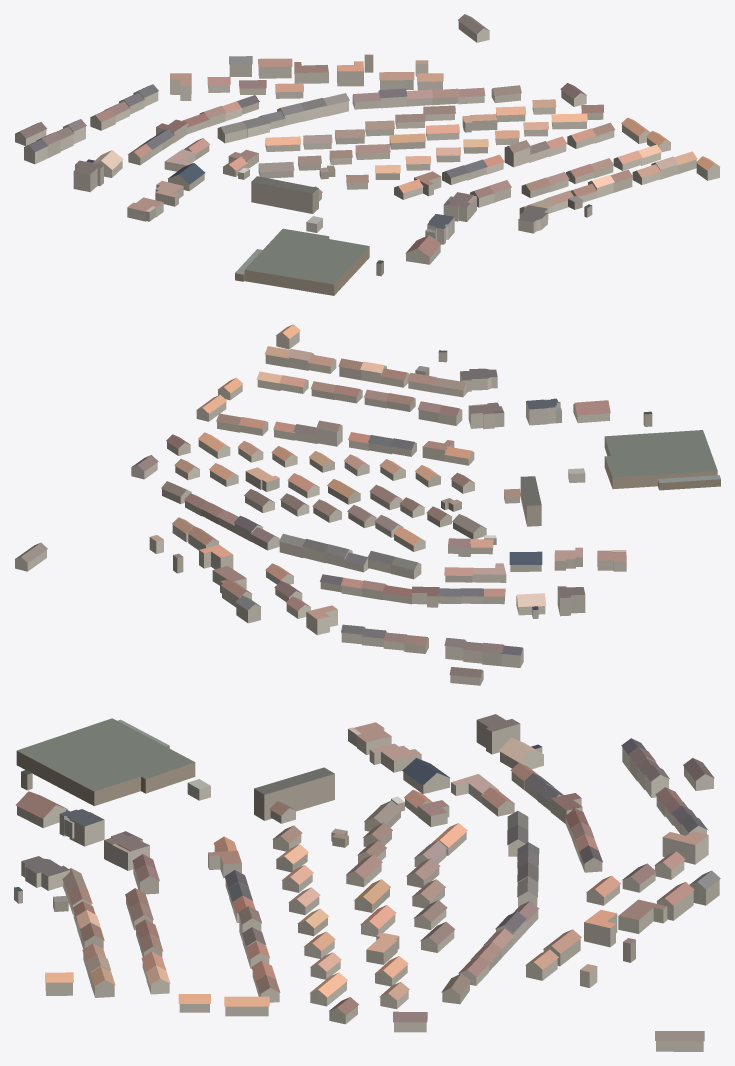
3 renders of one model, top to bottom at view 1: azimuth 30°, elevation 25°; view 2: azimuth 150°, elevation 25°; view 3: azimuth 270°, elevation 25°, orthographic. The views are drawn at different scales.
Visible parts, largest first — view 1: tuile; view 2: tuile; view 3: tuile.
Part boxes in pixels (<box>): tuile: <box>15,14,719,295</box>; tuile: <box>15,324,720,685</box>; tuile: <box>14,714,720,1051</box>.
Bounding box in the file's own units: 254 × 29.83 × 255.
